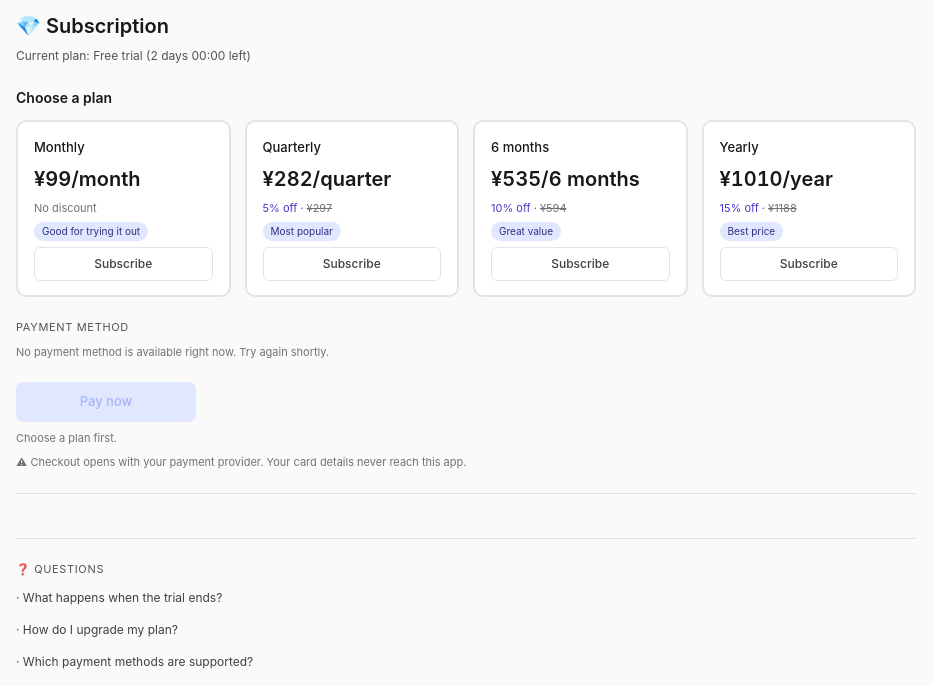
Scenario: paying › says which choice is missing when no method is on offer
The width and height of the screenshot is (933, 686).
Click the 4th button "Subscribe" at (809, 264), box [720,247,898,281]
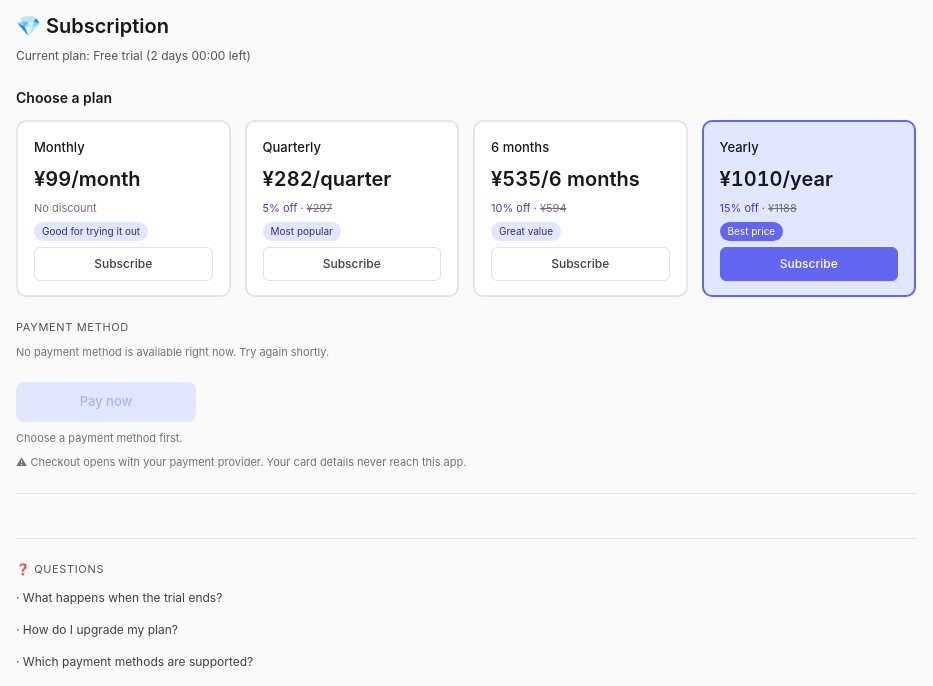
Expected: the button with test id "pay-now" is disabled, [16,382,196,422]
Now the text with test id "pay-hint" shows "payment method", box [16,430,183,444]
